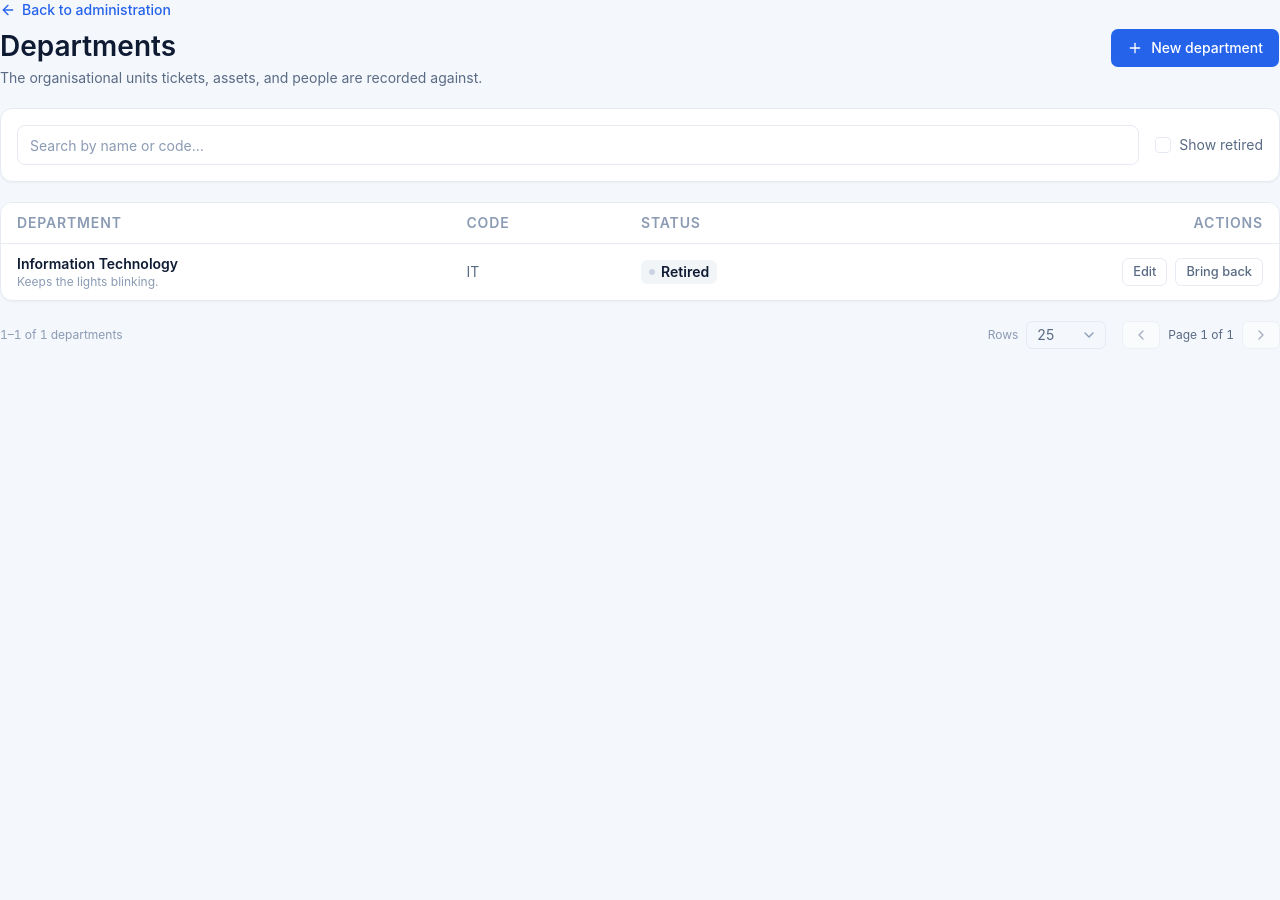
Test: DepartmentsPage › offers to bring a retired department back, and asks for no usage to do it
Expected: the text "Information Technology" is shown, [17,254,178,272]
Expected: the text "Retired" is shown, [641,260,717,284]
Click the button "Bring back" at (1219, 272), box [1175,258,1263,286]
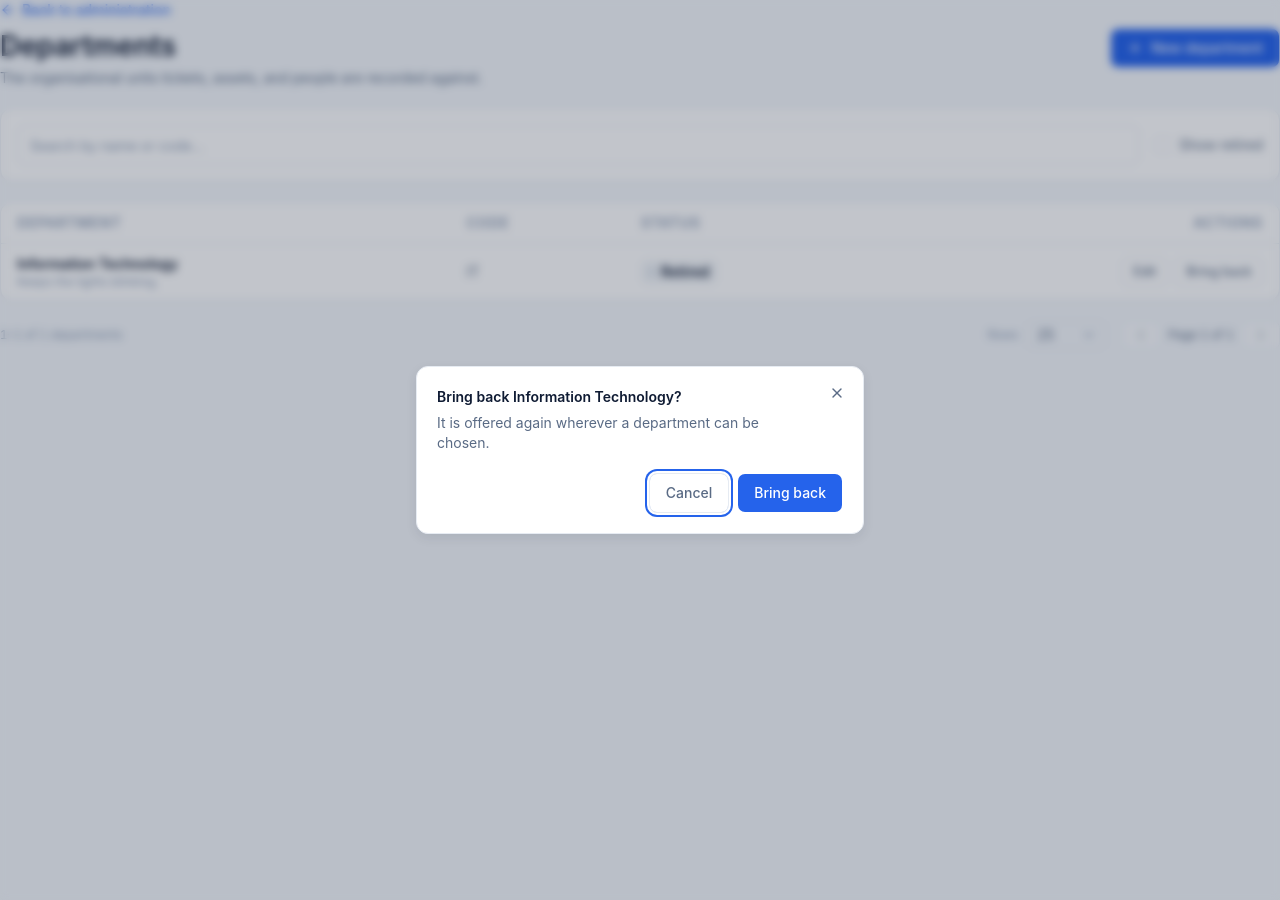
Expected: the heading "Bring back Information Technology?" is shown, [437,388,682,405]
